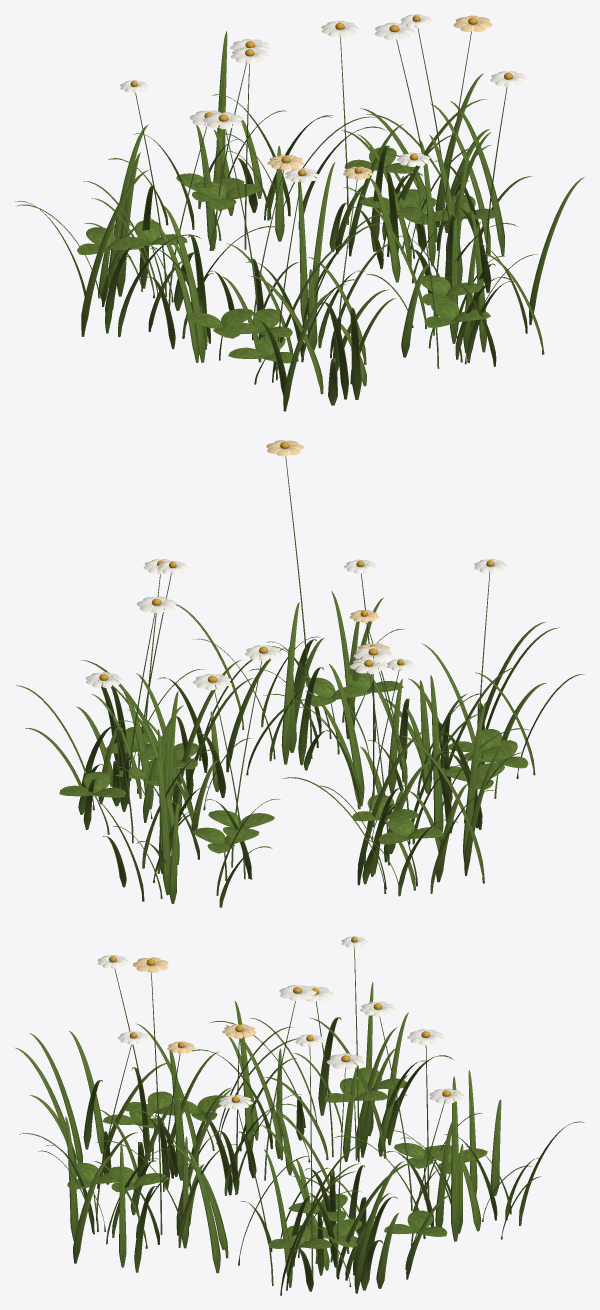
The model's file is n-meadowb.glb.
The picture shows the model from 3 angles, top to bottom: view 1: azimuth 30°, elevation 25°; view 2: azimuth 150°, elevation 25°; view 3: azimuth 270°, elevation 25°; orthographic projection. The views are drawn at different scales.
Visible parts, largest first — view 1: PatchFoliage, PatchFlowers, PatchStems; view 2: PatchFoliage, PatchFlowers, PatchStems; view 3: PatchFoliage, PatchFlowers, PatchStems.
Boxes of the visible parts, x1=… form: PatchFoliage: x1=15, y1=31, x2=584, y2=411; PatchFlowers: x1=120, y1=14, x2=526, y2=182; PatchStems: x1=106, y1=28, x2=507, y2=384; PatchFoliage: x1=16, y1=591, x2=584, y2=907; PatchFlowers: x1=85, y1=440, x2=507, y2=690; PatchStems: x1=95, y1=456, x2=498, y2=886; PatchFoliage: x1=15, y1=982, x2=584, y2=1295; PatchFlowers: x1=97, y1=936, x2=464, y2=1109; PatchStems: x1=93, y1=948, x2=450, y2=1285.
Size of the model in its own units: 0.7763 by 0.48 by 0.8575.
Materials: 3 (1 with a texture image).
